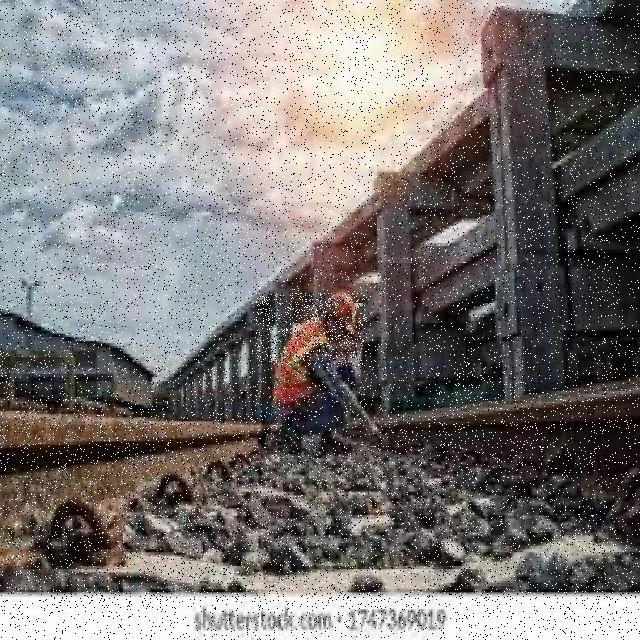danger: (256, 293, 367, 456)
rail: (0, 366, 640, 609)
